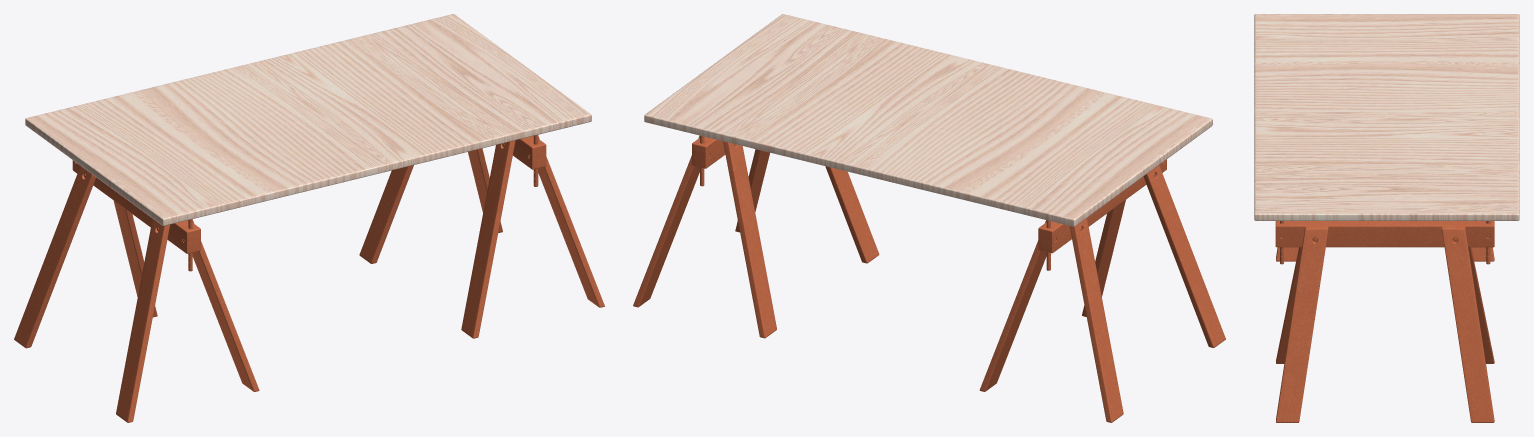
Rendered from table.gltf.
3 renders of one model, left to right at view 1: azimuth 30°, elevation 25°; view 2: azimuth 150°, elevation 25°; view 3: azimuth 270°, elevation 25°, orthographic. The views are drawn at different scales.
Visible parts, largest first — view 1: table_mesh_n3d, leg_001_mesh_n3d, leg_005_mesh_n3d, leg_003_mesh_n3d, leg_006_mesh_n3d, leg_002_mesh_n3d, leg_008_mesh_n3d, beam_001_mesh_n3d, leg_004_mesh_n3d, beam_004_mesh_n3d, leg_007_mesh_n3d; view 2: table_mesh_n3d, leg_003_mesh_n3d, leg_008_mesh_n3d, leg_001_mesh_n3d, leg_004_mesh_n3d, leg_007_mesh_n3d, leg_005_mesh_n3d, beam_001_mesh_n3d, leg_002_mesh_n3d, beam_004_mesh_n3d, leg_006_mesh_n3d; view 3: table_mesh_n3d, beam_004_mesh_n3d, leg_007_mesh_n3d, leg_006_mesh_n3d, leg_008_mesh_n3d, leg_005_mesh_n3d, leg_004_mesh_n3d, leg_002_mesh_n3d.
Part boxes in pixels (x1,y1,x2,y2): table_mesh_n3d: (25, 14, 591, 225); leg_001_mesh_n3d: (116, 219, 169, 422); leg_005_mesh_n3d: (461, 140, 515, 338); leg_003_mesh_n3d: (14, 166, 96, 348); leg_006_mesh_n3d: (538, 136, 604, 307); leg_002_mesh_n3d: (192, 220, 259, 391); leg_008_mesh_n3d: (359, 165, 413, 263); beam_001_mesh_n3d: (72, 160, 200, 253); leg_004_mesh_n3d: (114, 201, 157, 317); beam_004_mesh_n3d: (513, 136, 546, 169); leg_007_mesh_n3d: (468, 148, 502, 232); table_mesh_n3d: (644, 14, 1212, 226); leg_003_mesh_n3d: (1069, 218, 1123, 422); leg_008_mesh_n3d: (723, 141, 776, 338); leg_001_mesh_n3d: (1143, 165, 1225, 347); leg_004_mesh_n3d: (979, 220, 1046, 391); leg_007_mesh_n3d: (633, 135, 699, 307); leg_005_mesh_n3d: (825, 166, 879, 263); beam_001_mesh_n3d: (1038, 159, 1166, 253); leg_002_mesh_n3d: (1082, 200, 1125, 316); beam_004_mesh_n3d: (692, 136, 725, 168); leg_006_mesh_n3d: (735, 149, 769, 232); table_mesh_n3d: (1254, 14, 1519, 220); beam_004_mesh_n3d: (1275, 221, 1494, 247); leg_007_mesh_n3d: (1441, 226, 1494, 422); leg_006_mesh_n3d: (1276, 226, 1328, 422); leg_008_mesh_n3d: (1468, 247, 1494, 363); leg_005_mesh_n3d: (1276, 247, 1301, 363); leg_004_mesh_n3d: (1471, 247, 1494, 261); leg_002_mesh_n3d: (1276, 247, 1298, 261).
Size of the model in its own units: 3 by 1.24 by 1.51.
Materials: 2 (2 with a texture image).
